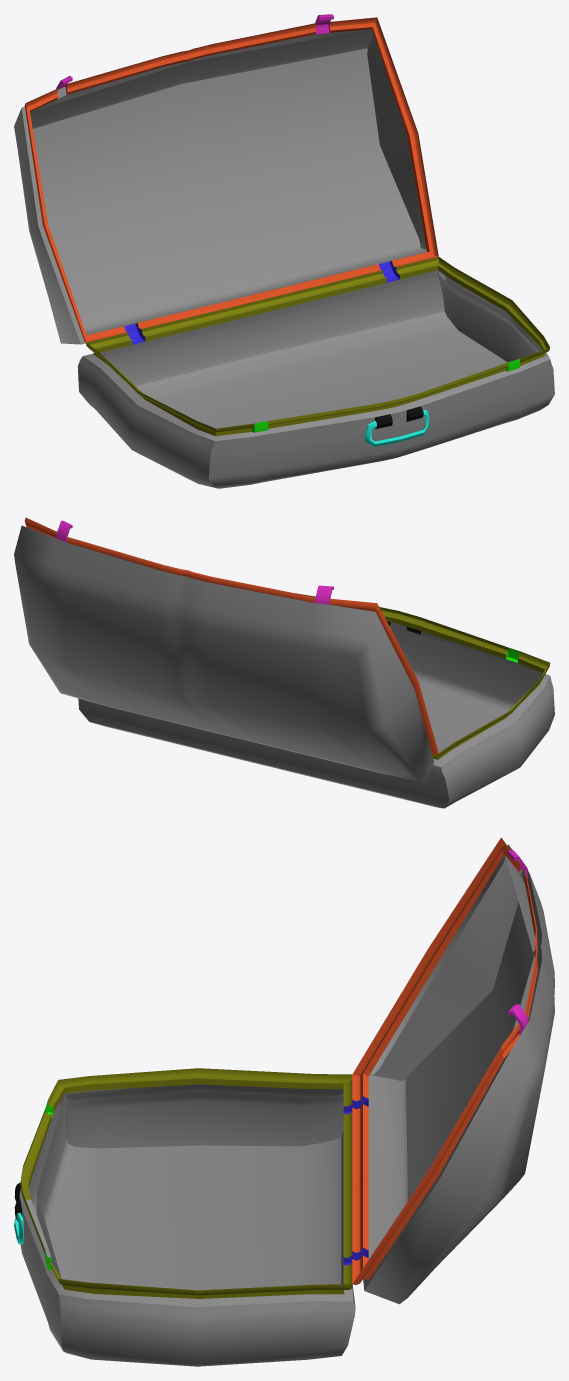
File: Luggage 02.FBX
3 views of the same model, one above another, from view 1: azimuth 30°, elevation 25°; view 2: azimuth 150°, elevation 25°; view 3: azimuth 270°, elevation 25° (orthographic). The views are drawn at different scales.
Parts seen in each view (by area): view 1: Box002; view 2: Box002; view 3: Box002.
Part boxes in pixels (box(x1,y1,x2,y2)): Box002: box(14, 14, 554, 488); Box002: box(14, 517, 554, 808); Box002: box(14, 837, 554, 1366).
Size of the model in its own units: 57.32 by 38.66 by 56.2.
